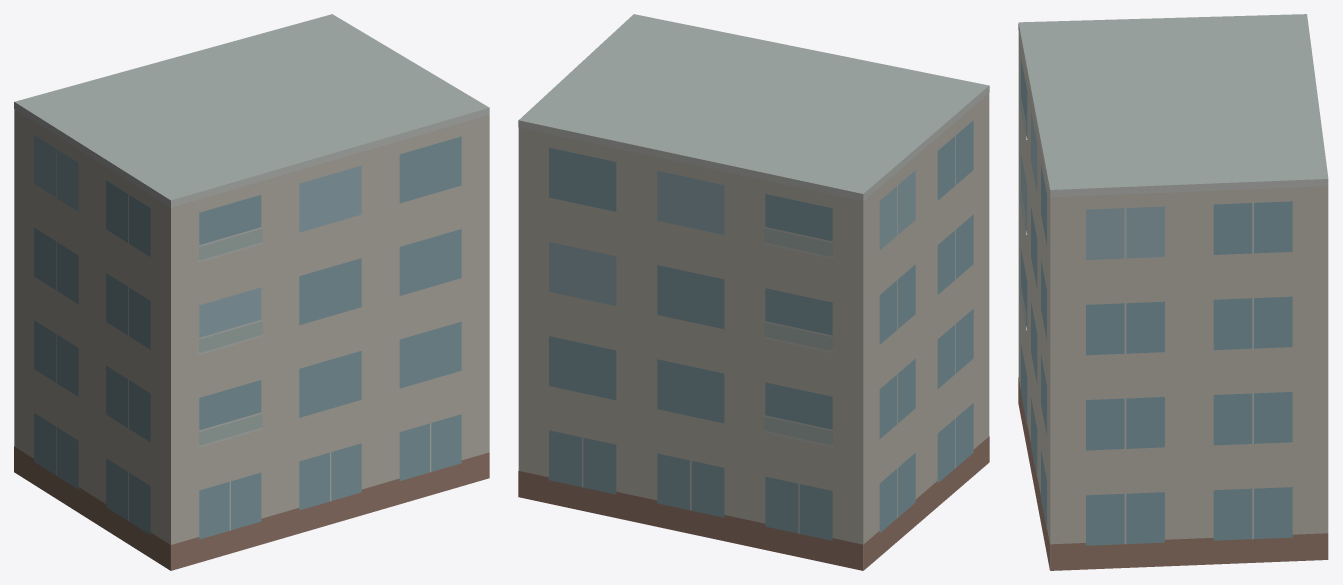
File: survey-upis-32767779.glb
3 views of the same model, side by side, from view 1: azimuth 30°, elevation 25°; view 2: azimuth 150°, elevation 25°; view 3: azimuth 270°, elevation 25° (orthographic). The views are drawn at different scales.
Parts seen in each view (by area): view 1: survey-upis-32767779.tmp; view 2: survey-upis-32767779.tmp; view 3: survey-upis-32767779.tmp.
Boxes of the visible parts, box(x1,y1,x2,y2) form: survey-upis-32767779.tmp: box(14, 14, 489, 570); survey-upis-32767779.tmp: box(518, 14, 989, 570); survey-upis-32767779.tmp: box(1018, 14, 1328, 570).
Size of the model in its own units: 12.69 by 12.8 by 9.45.
